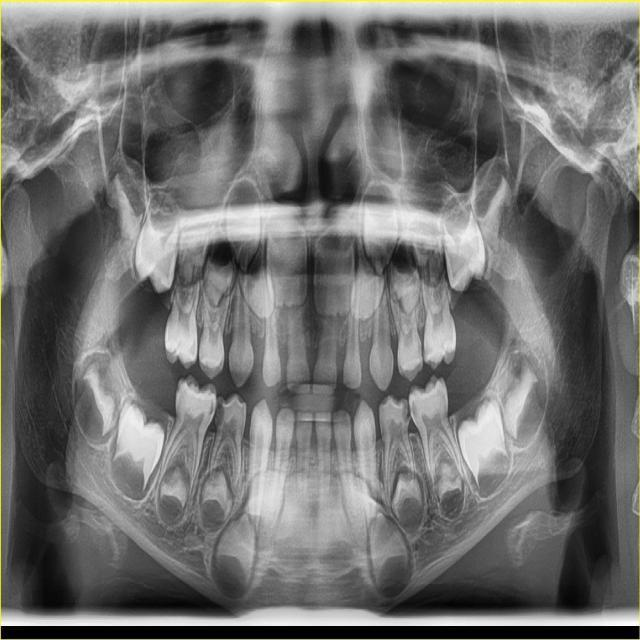Sterngold Implant: (399, 400, 414, 425), (213, 398, 226, 426), (407, 397, 421, 422), (206, 394, 217, 419), (423, 338, 431, 361), (416, 342, 422, 361)
